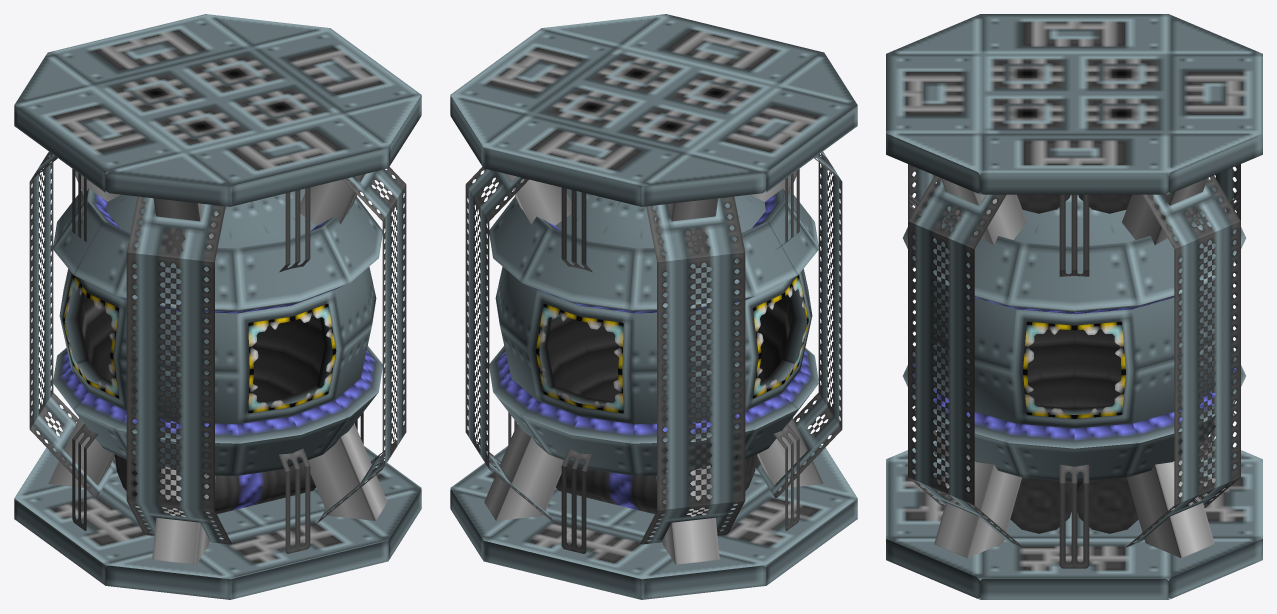
The model's file is orbus.obj.
3 views of the same model, side by side, from view 1: azimuth 30°, elevation 25°; view 2: azimuth 150°, elevation 25°; view 3: azimuth 270°, elevation 25° (orthographic). The views are drawn at different scales.
Visible parts, largest first — view 1: Sphere.002; view 2: Sphere.002; view 3: Sphere.002.
Boxes of the visible parts, <box> form: Sphere.002: <box>14,14,421,599</box>; Sphere.002: <box>450,14,857,599</box>; Sphere.002: <box>886,14,1262,599</box>.
Size of the model in its own units: 4 by 5 by 4.
